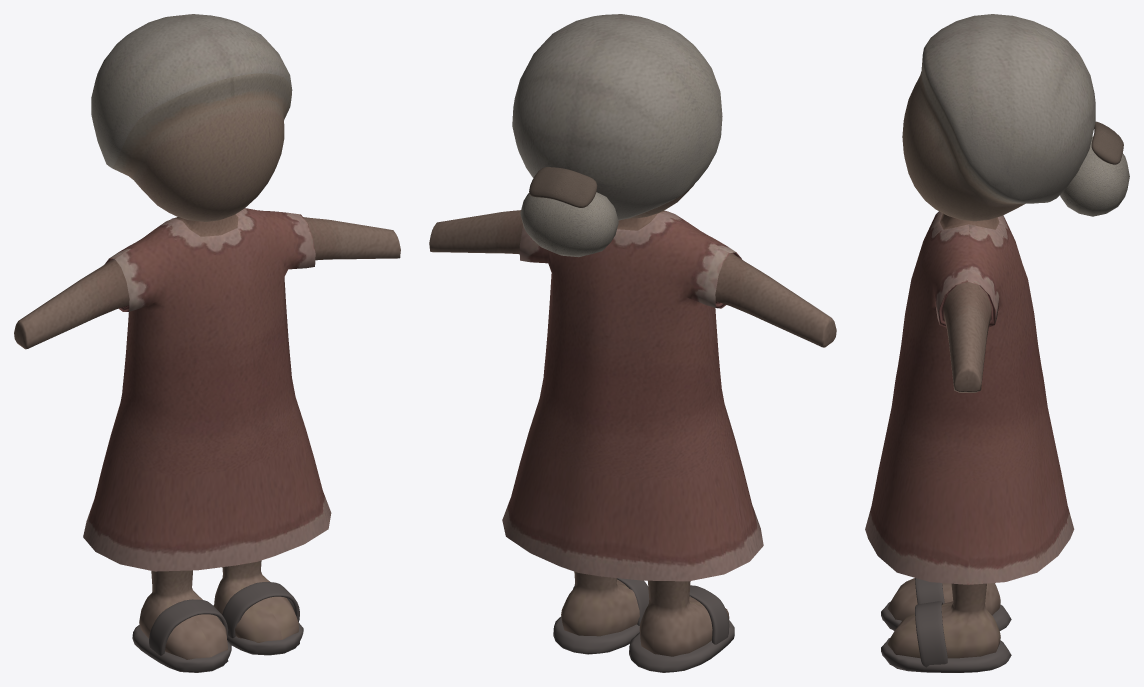
The model's file is old_lady.fbx.
3 views of the same model, side by side, from view 1: azimuth 30°, elevation 25°; view 2: azimuth 150°, elevation 25°; view 3: azimuth 270°, elevation 25° (orthographic). The views are drawn at different scales.
Visible parts, largest first — view 1: pCube55, pCube57, pCube62, pCube61, pCube63, pCube60; view 2: pCube55, pCube57, pCube58, pCube59, pCube63, pCube60, pCube62; view 3: pCube55, pCube57, pCube58, pCube60, pCube61, pCube59, pCube62, pCube63.
Part boxes in pixels (bbox=[...]): pCube55: bbox=[14, 208, 400, 659]; pCube57: bbox=[91, 14, 292, 221]; pCube62: bbox=[149, 599, 228, 655]; pCube61: bbox=[222, 582, 299, 638]; pCube63: bbox=[132, 625, 231, 672]; pCube60: bbox=[213, 605, 303, 655]; pCube55: bbox=[429, 210, 836, 656]; pCube57: bbox=[512, 14, 722, 220]; pCube58: bbox=[520, 192, 618, 257]; pCube59: bbox=[529, 167, 597, 207]; pCube63: bbox=[629, 620, 734, 672]; pCube60: bbox=[553, 616, 639, 654]; pCube62: bbox=[689, 585, 729, 644]; pCube55: bbox=[865, 211, 1074, 658]; pCube57: bbox=[902, 14, 1095, 221]; pCube58: bbox=[1060, 136, 1129, 216]; pCube60: bbox=[881, 637, 1011, 672]; pCube61: bbox=[915, 601, 947, 667]; pCube59: bbox=[1091, 121, 1123, 164]; pCube62: bbox=[915, 578, 944, 604]; pCube63: bbox=[881, 601, 1011, 630].
Bounding box in the file's own units: 9.5 × 14.49 × 5.66.
5 materials, 5 textured.
